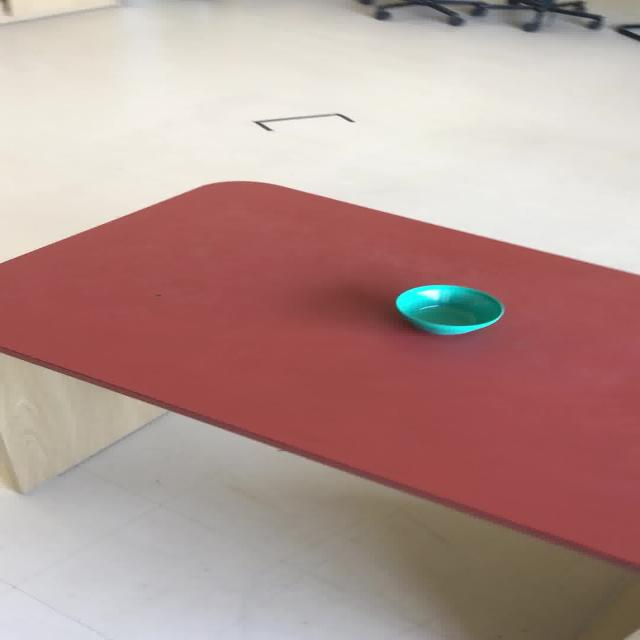bowl: (393, 283, 504, 335)
